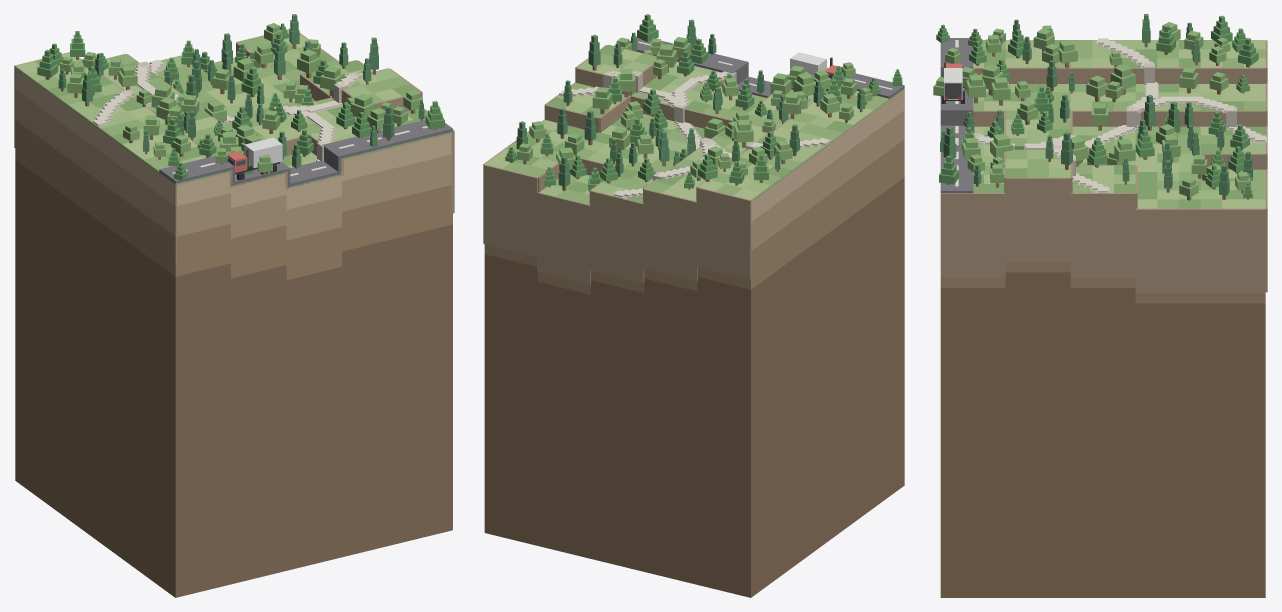
Rendered from block_3_urbanfarm_0.glb.
The picture shows the model from 3 angles, left to right: view 1: azimuth 30°, elevation 25°; view 2: azimuth 150°, elevation 25°; view 3: azimuth 270°, elevation 25°; orthographic projection. The views are drawn at different scales.
Parts seen in each view (by area): view 1: Patch_UpperLeft_b08_UF, Ghats_UpperLeft_b08_UF, Roads_UpperLeft_b08_UF, ULCar_002_UF; view 2: Patch_UpperLeft_b08_UF, Ghats_UpperLeft_b08_UF, Roads_UpperLeft_b08_UF, ULCar_002_UF; view 3: Patch_UpperLeft_b08_UF, Ghats_UpperLeft_b08_UF, Roads_UpperLeft_b08_UF, ULCar_002_UF, ULG_T242_UF.
Part boxes in pixels (x1,y1,x2,y2): Patch_UpperLeft_b08_UF: (15, 69, 452, 597); Ghats_UpperLeft_b08_UF: (14, 29, 454, 265); Roads_UpperLeft_b08_UF: (159, 120, 452, 188); ULCar_002_UF: (227, 137, 282, 180); Patch_UpperLeft_b08_UF: (484, 90, 904, 597); Ghats_UpperLeft_b08_UF: (483, 44, 904, 284); Roads_UpperLeft_b08_UF: (629, 36, 904, 99); ULCar_002_UF: (790, 52, 841, 90); Patch_UpperLeft_b08_UF: (940, 262, 1265, 597); Ghats_UpperLeft_b08_UF: (940, 38, 1267, 292); Roads_UpperLeft_b08_UF: (940, 38, 973, 193); ULCar_002_UF: (941, 62, 964, 103); ULG_T242_UF: (1110, 64, 1135, 94).
Bounding box in the file's own units: 9.55 × 14.72 × 9.76.
